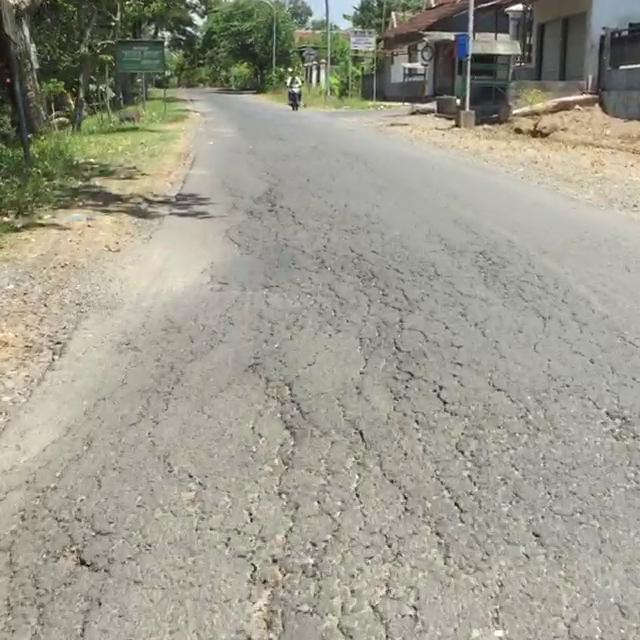retak_kulit_buaya: (219, 214, 569, 441), (167, 428, 458, 640)
